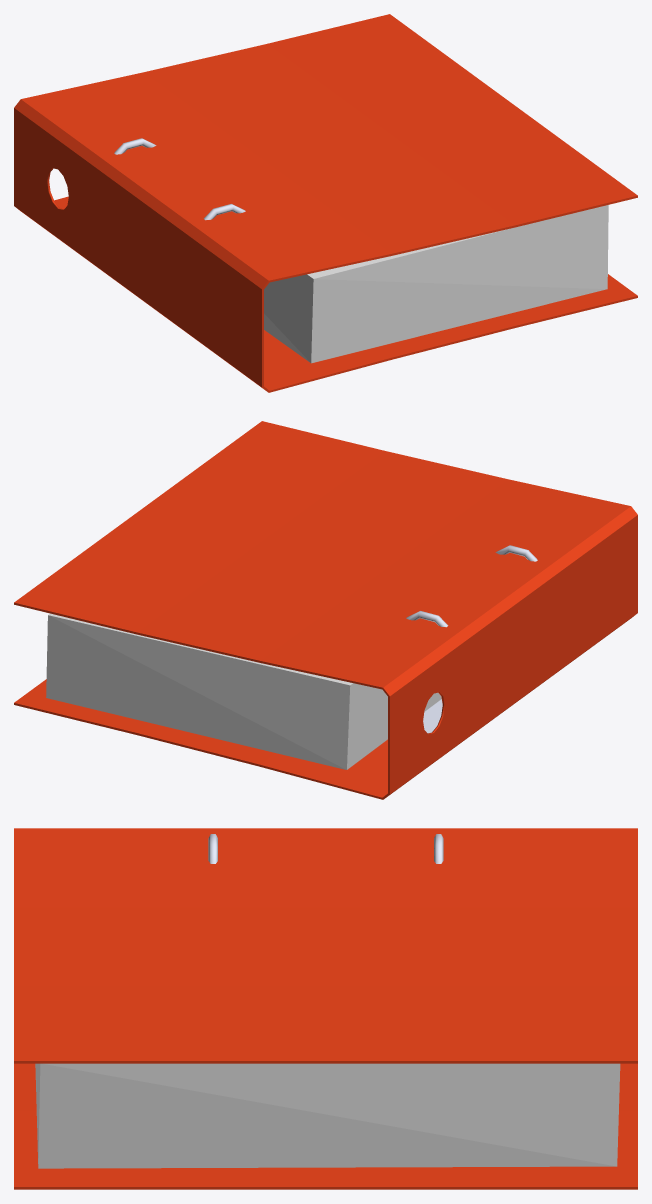
The model's file is folder.dae.
3 renders of one model, top to bottom at view 1: azimuth 30°, elevation 25°; view 2: azimuth 150°, elevation 25°; view 3: azimuth 270°, elevation 25°, orthographic. The views are drawn at different scales.
Visible parts, largest first — view 1: Folder1, Folder_Papers, Folder_Clamps; view 2: Folder1, Folder_Papers, Folder_Clamps; view 3: Folder1, Folder_Papers, Folder_Clamps.
Boxes of the visible parts, x1=… form: Folder1: x1=14, y1=14, x2=637, y2=392; Folder_Papers: x1=264, y1=205, x2=608, y2=363; Folder_Clamps: x1=114, y1=138, x2=245, y2=220; Folder1: x1=14, y1=421, x2=637, y2=799; Folder_Papers: x1=46, y1=613, x2=441, y2=769; Folder_Clamps: x1=406, y1=545, x2=537, y2=733; Folder1: x1=14, y1=828, x2=637, y2=1189; Folder_Papers: x1=35, y1=1063, x2=620, y2=1168; Folder_Clamps: x1=208, y1=834, x2=443, y2=863.
Size of the model in its own units: 0.28 by 0.32 by 0.0854.
